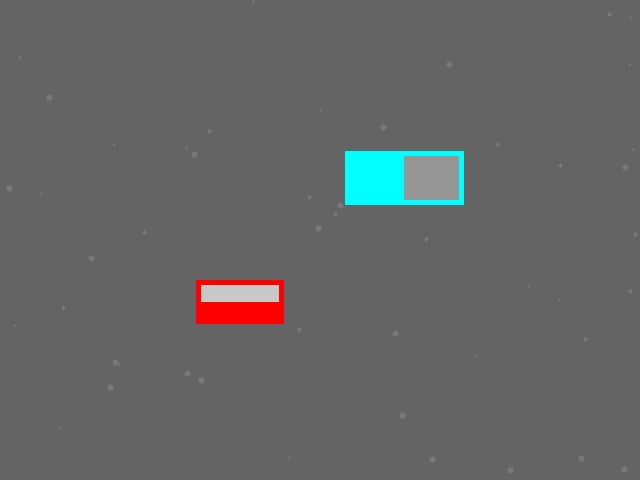car: (196, 280, 283, 323)
truck: (345, 151, 463, 204)
